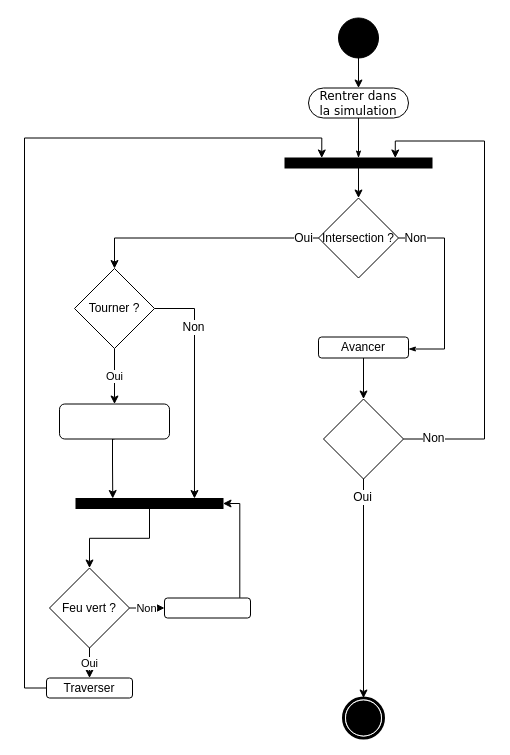
Some shapes in this 510 by 755 pixel diagram are drawn without their labels. Here are the shapes that lost their labels. From the top down, the box of each, then its label:
(58, 403, 170, 439): Tourner et définir prochaine décision
(322, 398, 404, 479): Fin de la simulation ?
(164, 597, 250, 618): Attendre
